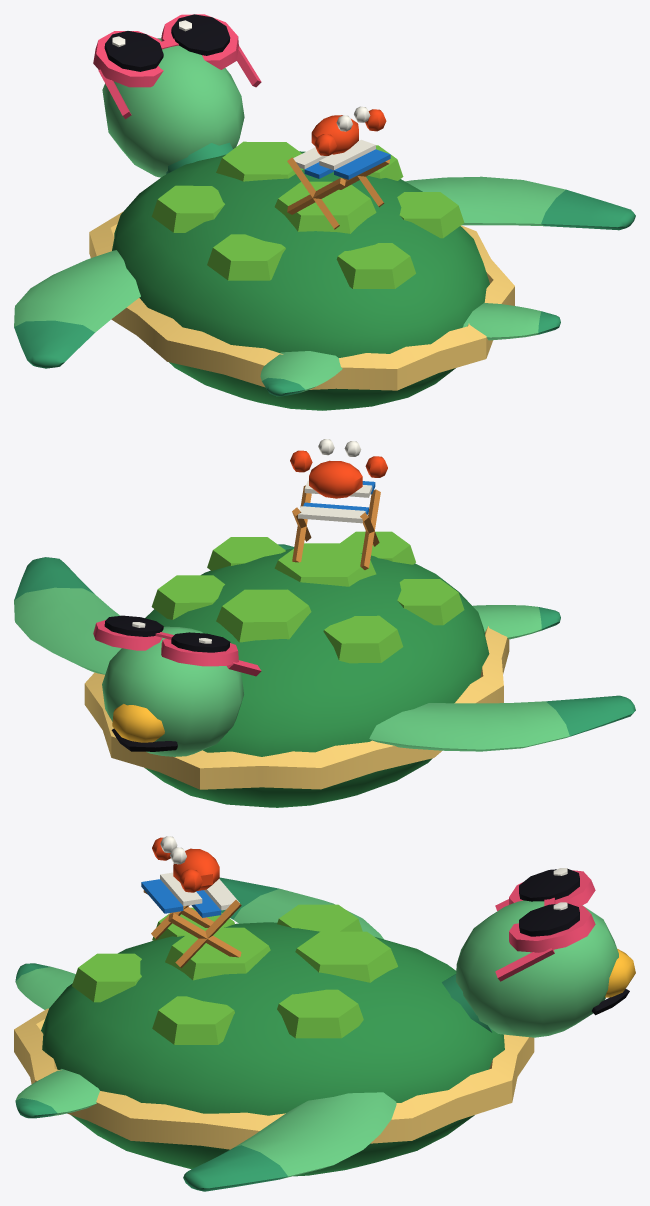
File: turtle.glb
3 renders of one model, top to bottom at view 1: azimuth 30°, elevation 25°; view 2: azimuth 150°, elevation 25°; view 3: azimuth 270°, elevation 25°, orthographic. The views are drawn at different scales.
Visible parts, largest first — view 1: Shell, Noggin, PaddleFL, PaddleFR, PaddleBL, PaddleBR; view 2: Shell, Noggin, PaddleFL, PaddleFR, PaddleBL; view 3: Shell, Noggin, PaddleFR, PaddleBR, PaddleFL, PaddleBL.
Boxes of the visible parts, x1,y1,x2,y2 form: Shell: (89, 106, 514, 410); Noggin: (93, 14, 261, 177); PaddleFL: (14, 250, 140, 368); PaddleFR: (405, 176, 635, 230); PaddleBL: (260, 351, 342, 396); PaddleBR: (463, 303, 560, 340); Shell: (84, 439, 509, 807); Noggin: (93, 615, 261, 756); PaddleFL: (369, 695, 635, 751); PaddleFR: (14, 557, 121, 674); PaddleBL: (473, 605, 560, 639); Shell: (14, 836, 534, 1176); Noggin: (442, 868, 635, 1037); PaddleFR: (183, 1092, 396, 1191); PaddleBR: (15, 1069, 99, 1118); PaddleFL: (219, 877, 383, 939); PaddleBL: (15, 963, 75, 1009).
Bounding box in the file's own units: 1.74 × 0.812 × 1.47.
Materials: 2 (1 with a texture image).
